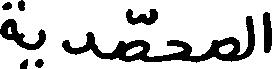X: (119, 4, 148, 66), (63, 27, 91, 59), (167, 35, 189, 65), (0, 0, 14, 45), (218, 32, 236, 66), (264, 0, 271, 68), (36, 24, 44, 68), (248, 0, 253, 68)
